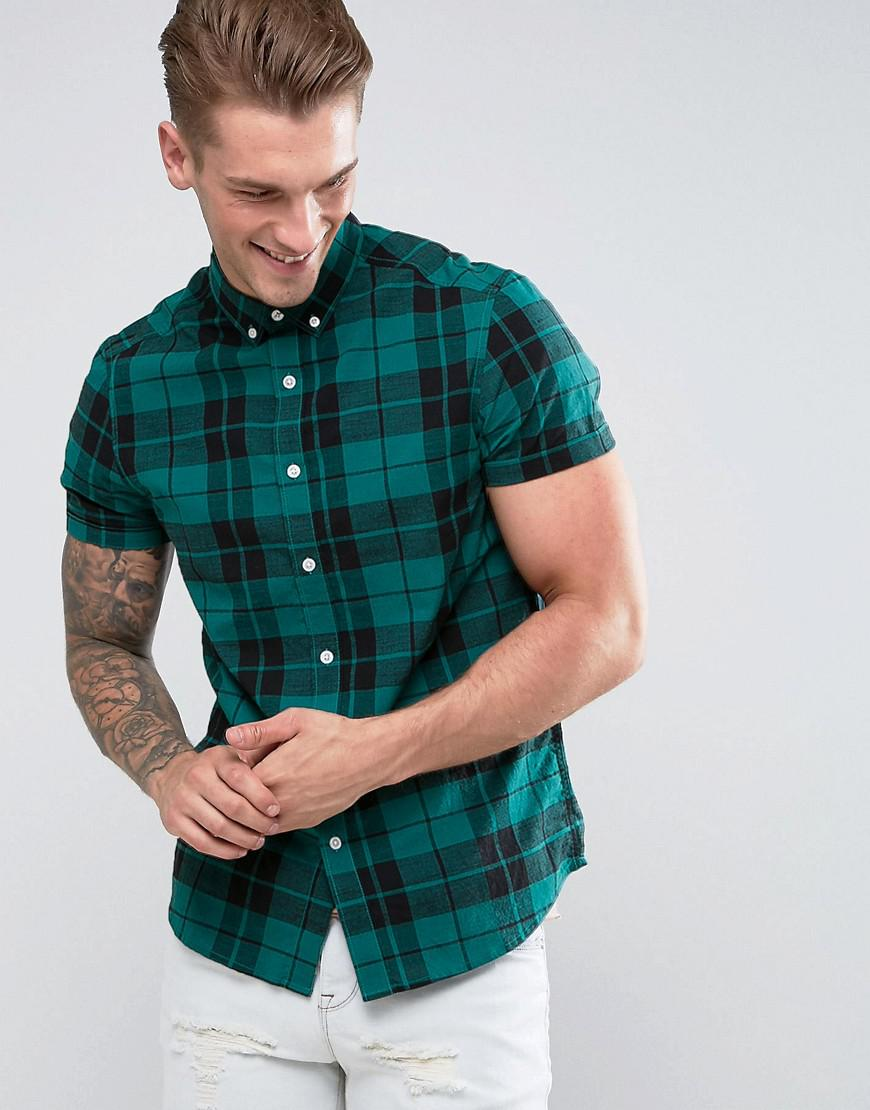teeshirt: (57, 257, 617, 951)
